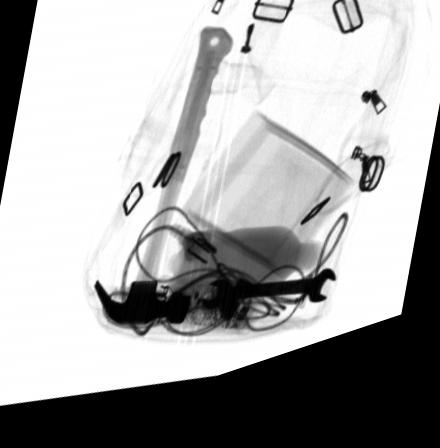Hammer: (91, 39, 230, 335)
Wrench: (199, 289, 333, 325)
